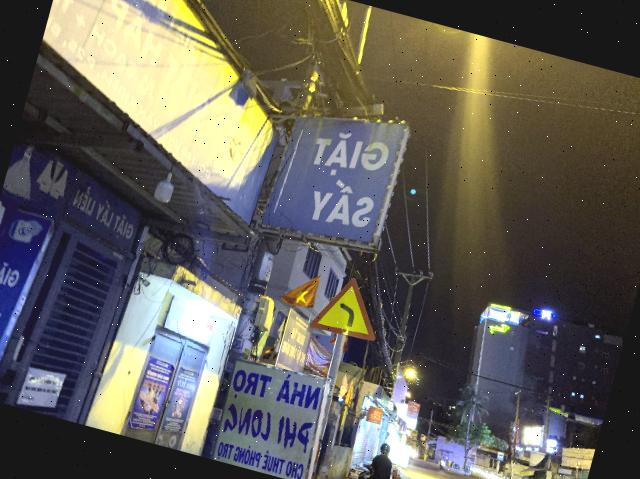cho-ngoat-nguy-hiem-ben-phai: (309, 268, 390, 344)
